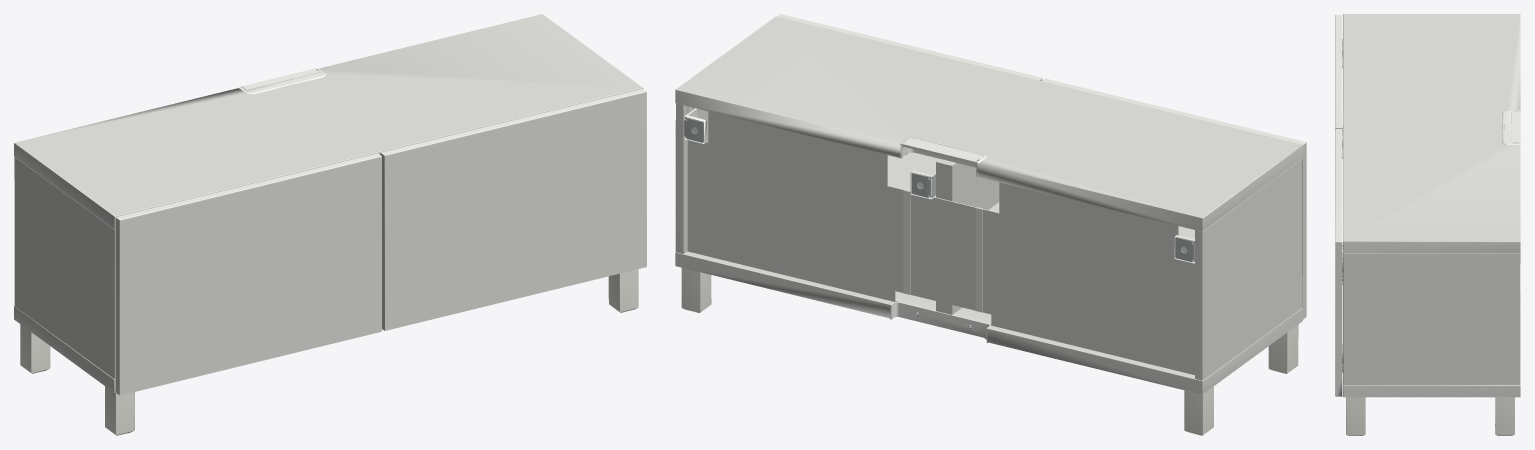
Rendered from 02 - BESTÅ TV bench with doors - whiteLappvikenStubbarp white 120x42x48 cm.glb.
3 views of the same model, side by side, from view 1: azimuth 30°, elevation 25°; view 2: azimuth 150°, elevation 25°; view 3: azimuth 270°, elevation 25° (orthographic). The views are drawn at different scales.
Size of the model in its own units: 1.2 by 0.4859 by 0.413.
1 material, 1 textured.
